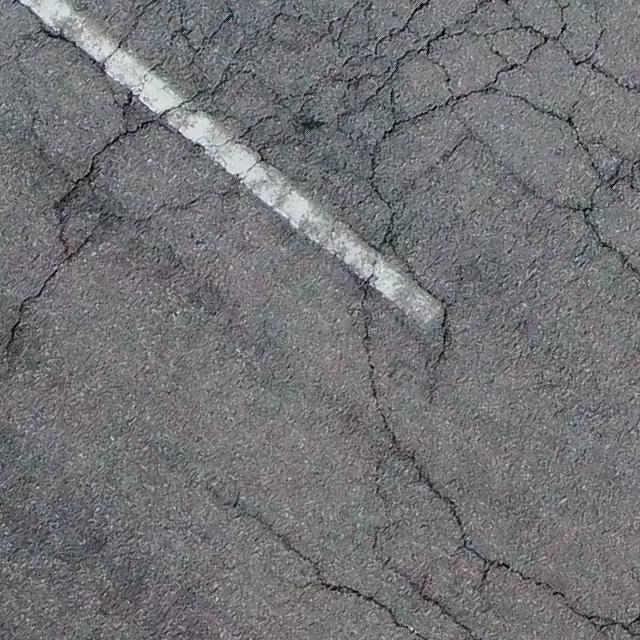GRIETA: (4, 255, 70, 357), (231, 500, 318, 567), (30, 110, 65, 178)
PIEL DE COCODRILO: (0, 0, 639, 639)
